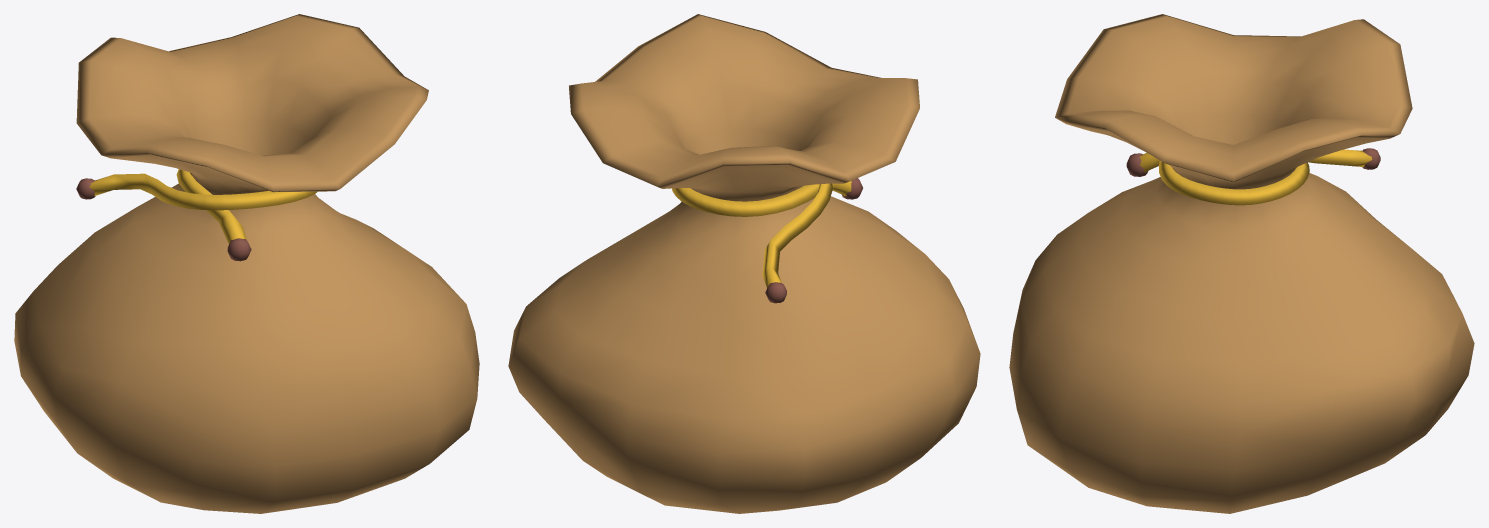
File: RicePouch.fbx
The picture shows the model from 3 angles, left to right: view 1: azimuth 30°, elevation 25°; view 2: azimuth 150°, elevation 25°; view 3: azimuth 270°, elevation 25°; orthographic projection. The views are drawn at different scales.
Parts seen in each view (by area): view 1: NurbsPath; view 2: NurbsPath; view 3: NurbsPath.
Part boxes in pixels (x1,y1,x2,y2): NurbsPath: [14, 14, 479, 513]; NurbsPath: [508, 14, 980, 513]; NurbsPath: [1009, 14, 1474, 513].
Size of the model in its own units: 80.34 by 73.85 by 79.48.
